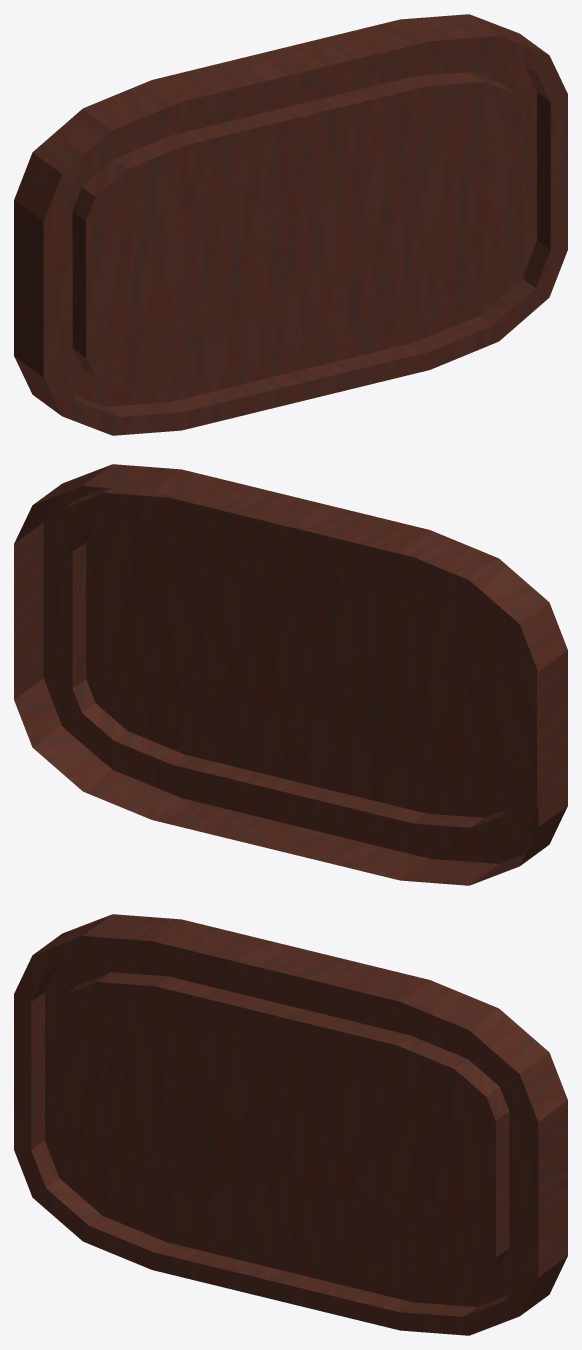
Rendered from Nameplate.fbx.
3 views of the same model, one above another, from view 1: azimuth 30°, elevation 25°; view 2: azimuth 150°, elevation 25°; view 3: azimuth 330°, elevation 25° (orthographic).
Parts seen in each view (by area): view 1: Cube.007; view 2: Cube.007; view 3: Cube.007.
Boxes of the visible parts, bbox=[...] form: Cube.007: bbox=[14, 14, 567, 435]; Cube.007: bbox=[14, 464, 567, 885]; Cube.007: bbox=[14, 914, 567, 1335].
Size of the model in its own units: 32.59 by 19.53 by 3.21.
